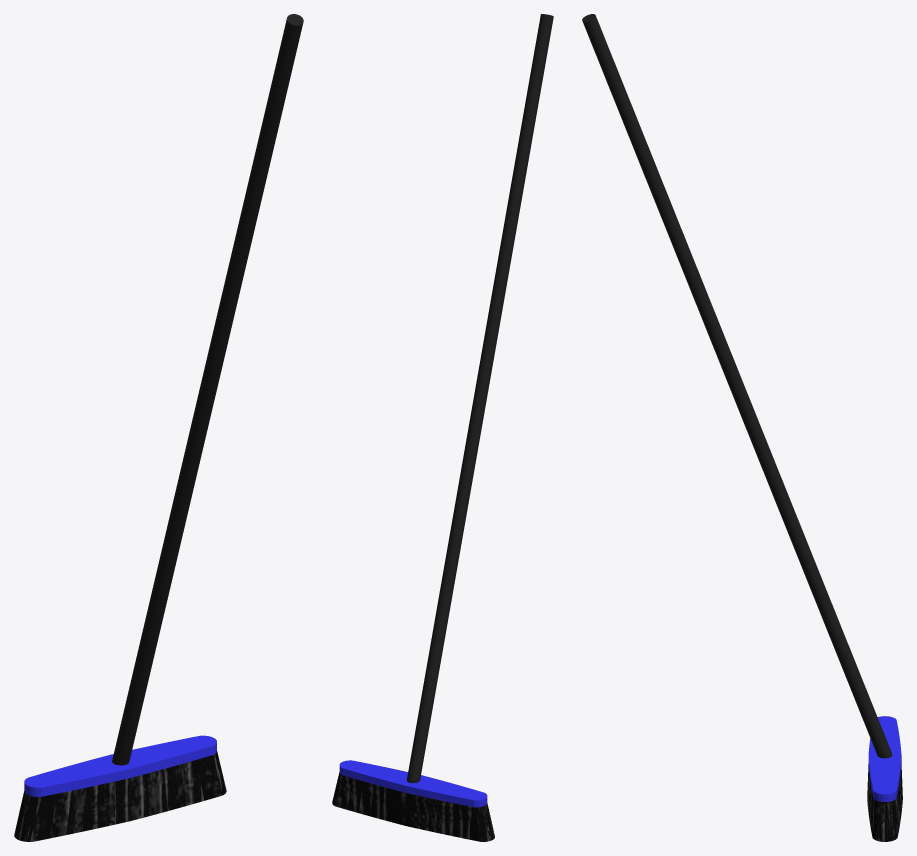
The model's file is Broom.fbx.
The picture shows the model from 3 angles, left to right: view 1: azimuth 30°, elevation 25°; view 2: azimuth 150°, elevation 25°; view 3: azimuth 270°, elevation 25°; orthographic projection. The views are drawn at different scales.
Visible parts, largest first — view 1: Group2, Group1; view 2: Group1, Group2; view 3: Group1, Group2.
Boxes of the visible parts, x1,y1,x2,y2 form: Group2: (14,735,226,841); Group1: (112,14,303,765); Group1: (407,14,553,783); Group2: (332,760,494,841); Group1: (582,14,892,758); Group2: (867,716,902,841).
Size of the model in its own units: 309 by 1308 by 485.
